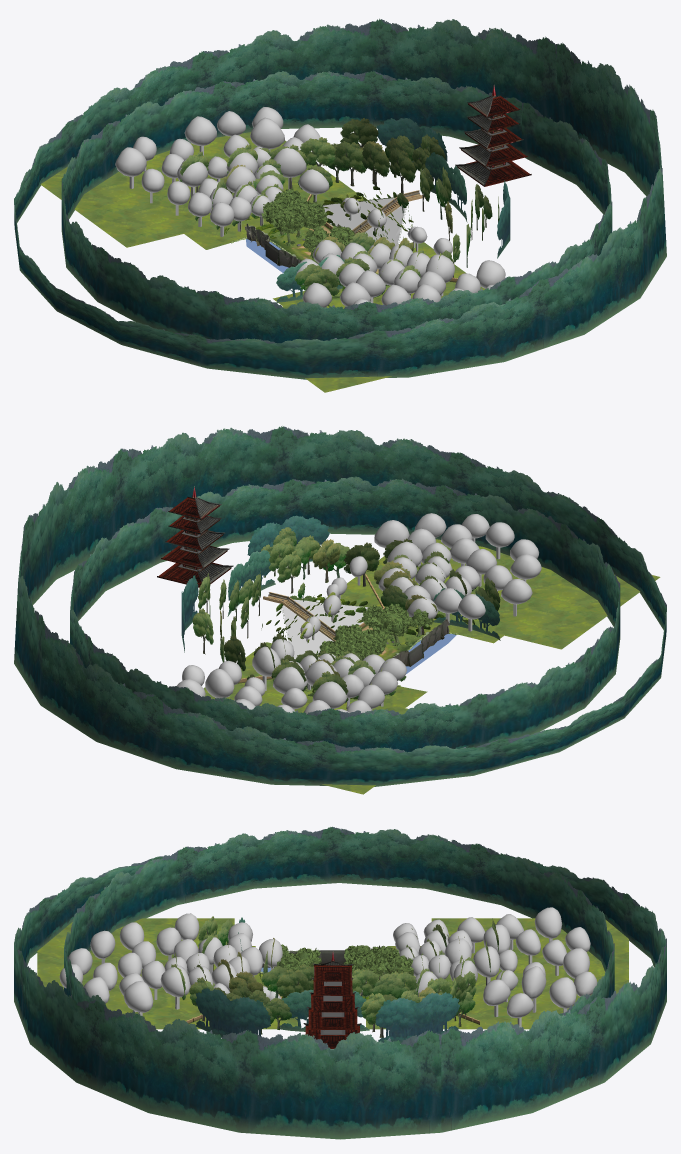
File: Ninja_Forest01.fbx
3 views of the same model, one above another, from view 1: azimuth 30°, elevation 25°; view 2: azimuth 150°, elevation 25°; view 3: azimuth 270°, elevation 25° (orthographic).
Parts seen in each view (by area): view 1: BG_Mountains, BG, FakeBake_Trees, BG_Ground, SR_Trees_F, Temple, SR_Trees_L, Tri_Hill, SR_Trees_R, SR_LakeTreeTrees_F, TG_OverallBrush, WaterFall (+4 smaller); view 2: BG_Mountains, BG, FakeBake_Trees, BG_Ground, SR_Trees_F, Temple, SR_Trees_L, Tri_Hill, SR_Trees_R, SR_LakeTreeTrees_F, TG_OverallBrush, SR2_Trees (+3 smaller); view 3: BG_Mountains, BG, FakeBake_Trees, SR_Trees_F, BG_Ground, Temple, SR_Trees_L, SR_LakeTreeTrees_F, SR_Trees_R, Leaves.
Part boxes in pixels (box(x1,y1,x2,y2)): BG_Mountains: box(14, 18, 666, 379); BG: box(61, 71, 612, 343); FakeBake_Trees: box(115, 107, 505, 307); BG_Ground: box(40, 132, 484, 392); SR_Trees_F: box(334, 118, 510, 277); Temple: box(455, 85, 531, 186); SR_Trees_L: box(180, 137, 351, 231); Tri_Hill: box(322, 197, 406, 245); SR_Trees_R: box(294, 237, 452, 298); SR_LakeTreeTrees_F: box(425, 152, 467, 222); TG_OverallBrush: box(323, 186, 413, 240); WaterFall: box(245, 223, 301, 267); BG_Mountains: box(14, 426, 666, 786); BG: box(70, 476, 620, 752); FakeBake_Trees: box(176, 513, 541, 714); BG_Ground: box(204, 539, 660, 794); SR_Trees_F: box(181, 515, 379, 654); Temple: box(157, 486, 233, 587); SR_Trees_L: box(220, 633, 406, 708); Tri_Hill: box(281, 599, 368, 659); SR_Trees_R: box(374, 538, 500, 627); SR_LakeTreeTrees_F: box(227, 550, 275, 616); TG_OverallBrush: box(261, 582, 367, 655); SR2_Trees: box(317, 570, 443, 660); BG_Mountains: box(14, 854, 666, 1139); BG: box(64, 826, 614, 1031); FakeBake_Trees: box(59, 907, 597, 1027); SR_Trees_F: box(189, 964, 466, 1043); BG_Ground: box(37, 918, 628, 1029); Temple: box(303, 951, 361, 1048); SR_Trees_L: box(411, 918, 506, 1027); SR_LakeTreeTrees_F: box(280, 989, 369, 1031); SR_Trees_R: box(171, 916, 253, 1007); Leaves: box(382, 954, 413, 975).
Size of the model in its own units: 2021 by 428 by 2021.
